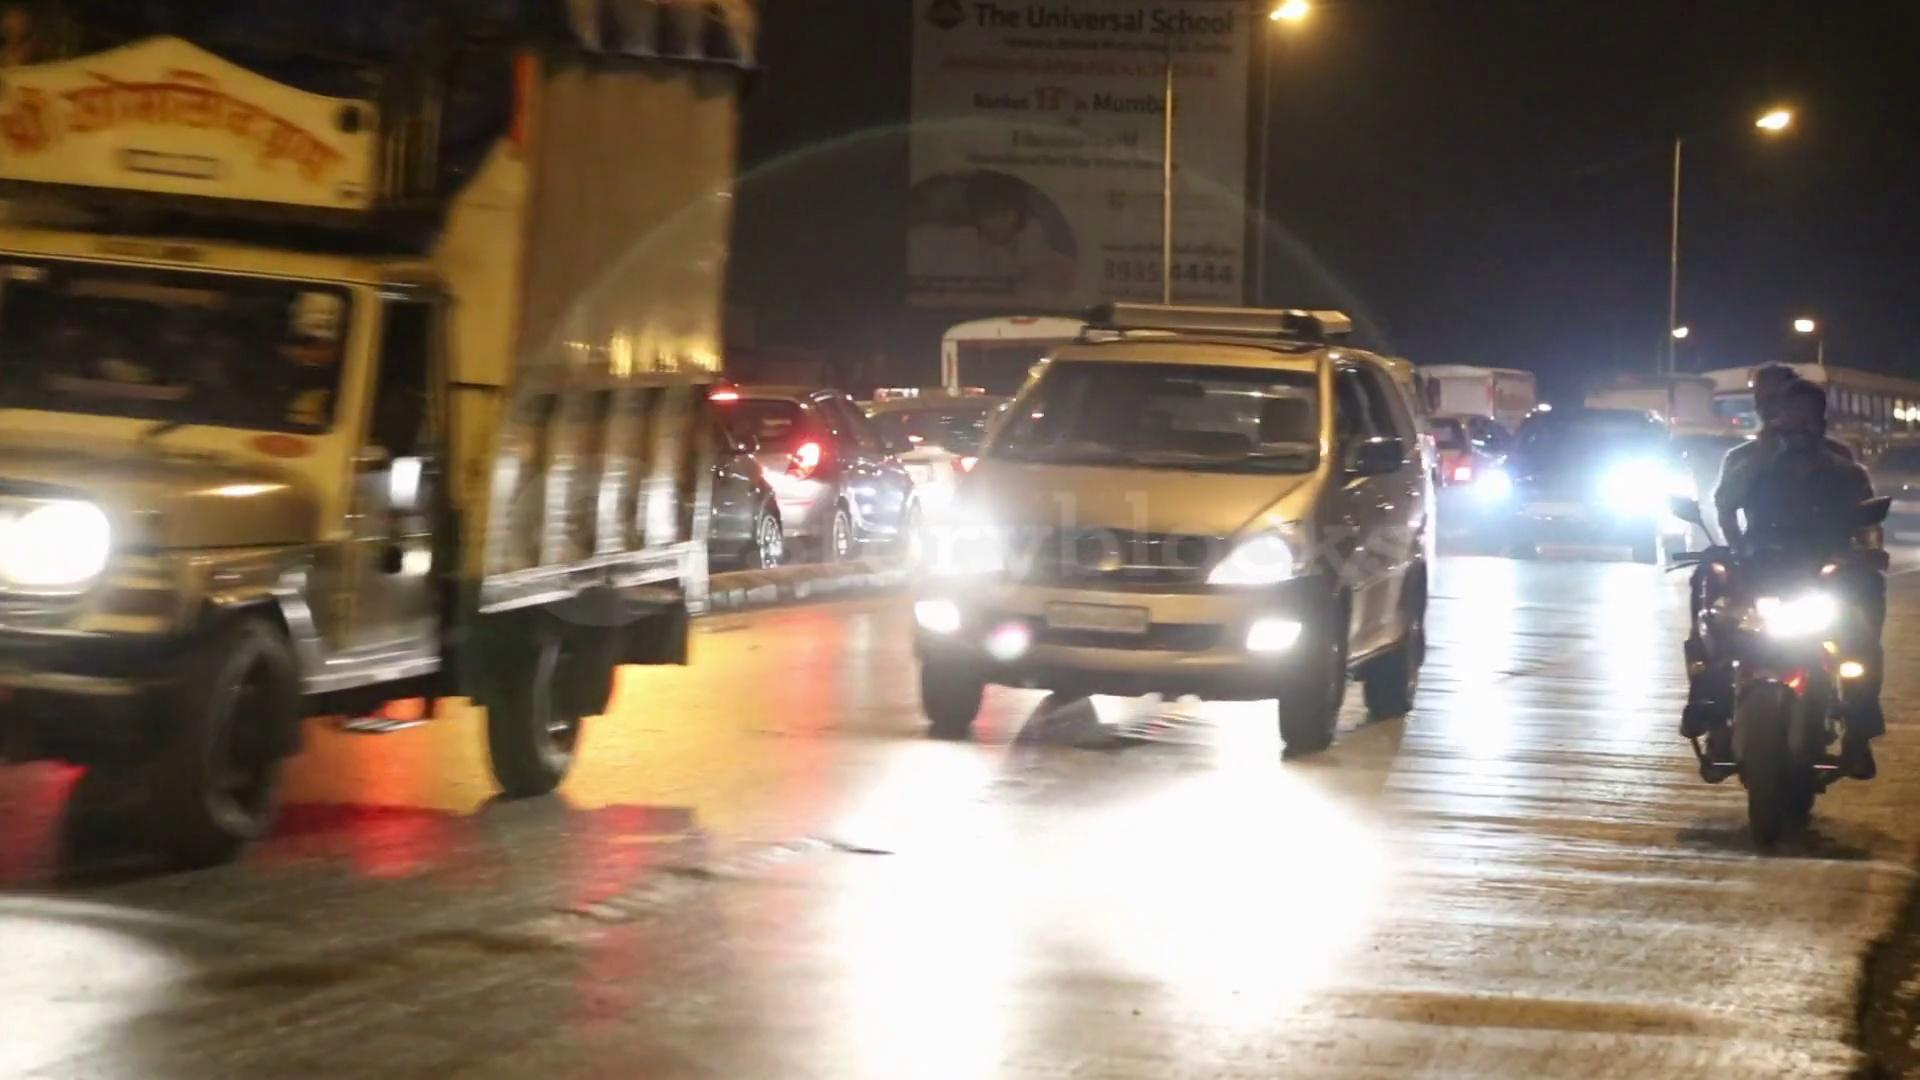rider: (1682, 366, 1891, 780)
without_helmate: (1767, 379, 1829, 456)
